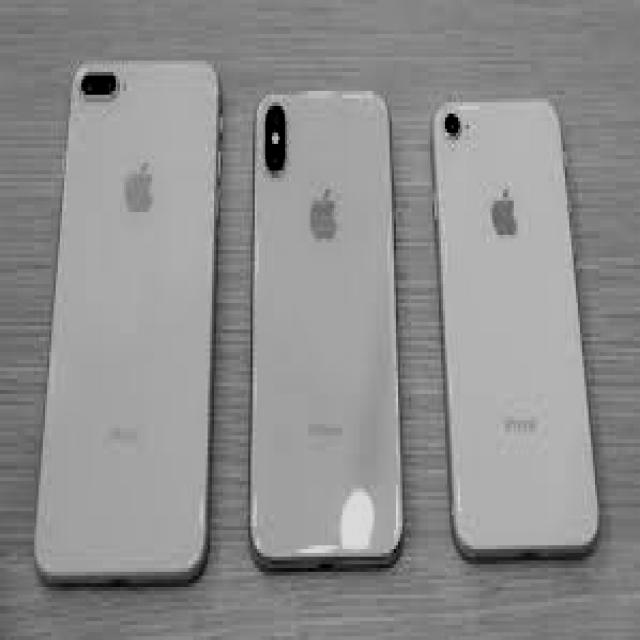fake: (46, 56, 221, 584), (247, 91, 403, 572)
